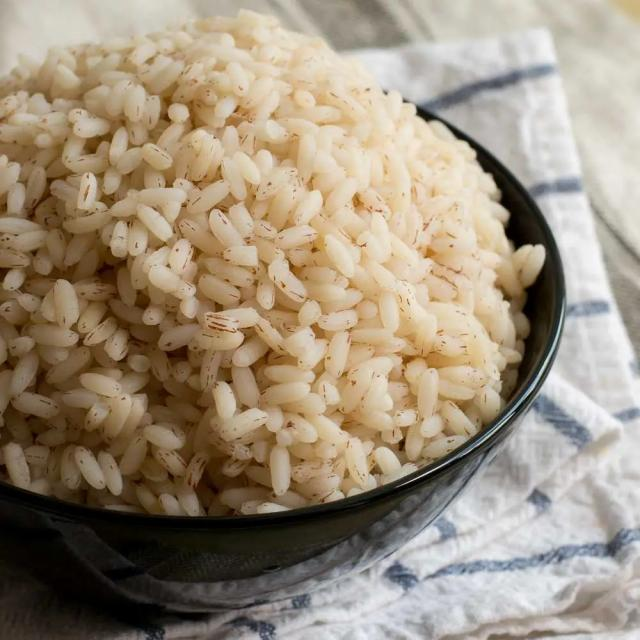Rice: (0, 10, 565, 581)
